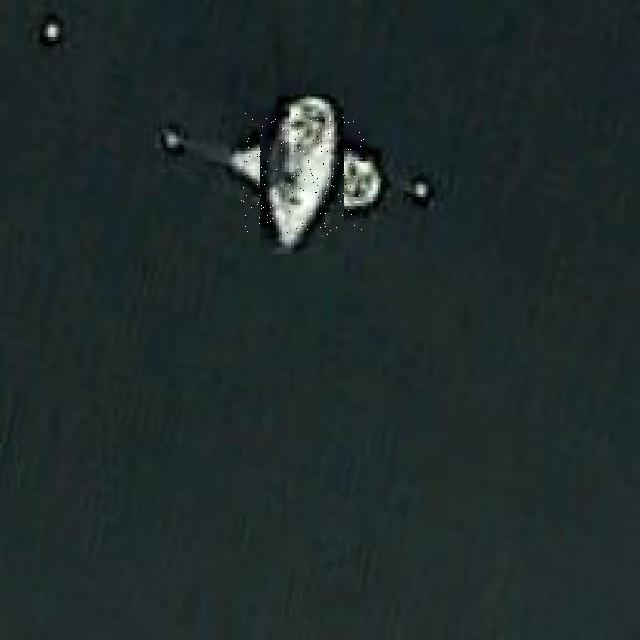boat: (241, 113, 364, 235)
